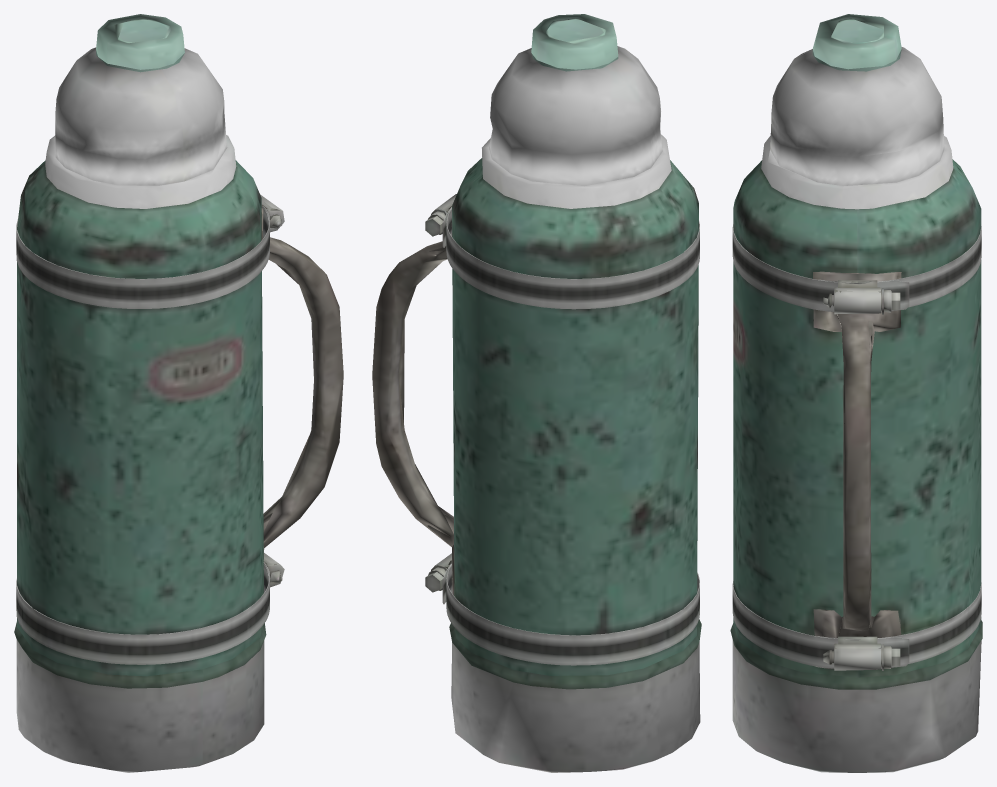
Rendered from thermos.glb.
The picture shows the model from 3 angles, left to right: view 1: azimuth 30°, elevation 25°; view 2: azimuth 150°, elevation 25°; view 3: azimuth 270°, elevation 25°; orthographic projection.
Parts seen in each view (by area): view 1: modified_thermos; view 2: modified_thermos; view 3: modified_thermos.
Boxes of the visible parts, x1,y1,x2,y2 form: modified_thermos: [14, 14, 343, 772]; modified_thermos: [372, 14, 701, 772]; modified_thermos: [730, 14, 982, 772].
Bounding box in the file's own units: 0.1427 × 0.3061 × 0.1005.
Materials: 1 (1 with a texture image).
